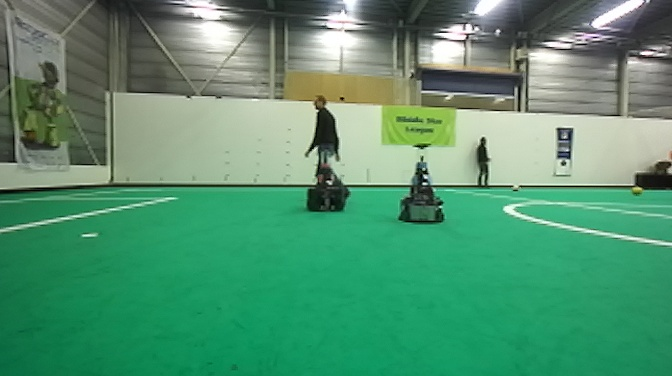ball: (509, 181, 523, 194), (631, 184, 643, 197)
human: (302, 94, 351, 200), (473, 133, 495, 189)
robot: (396, 141, 447, 225), (306, 148, 347, 212)
